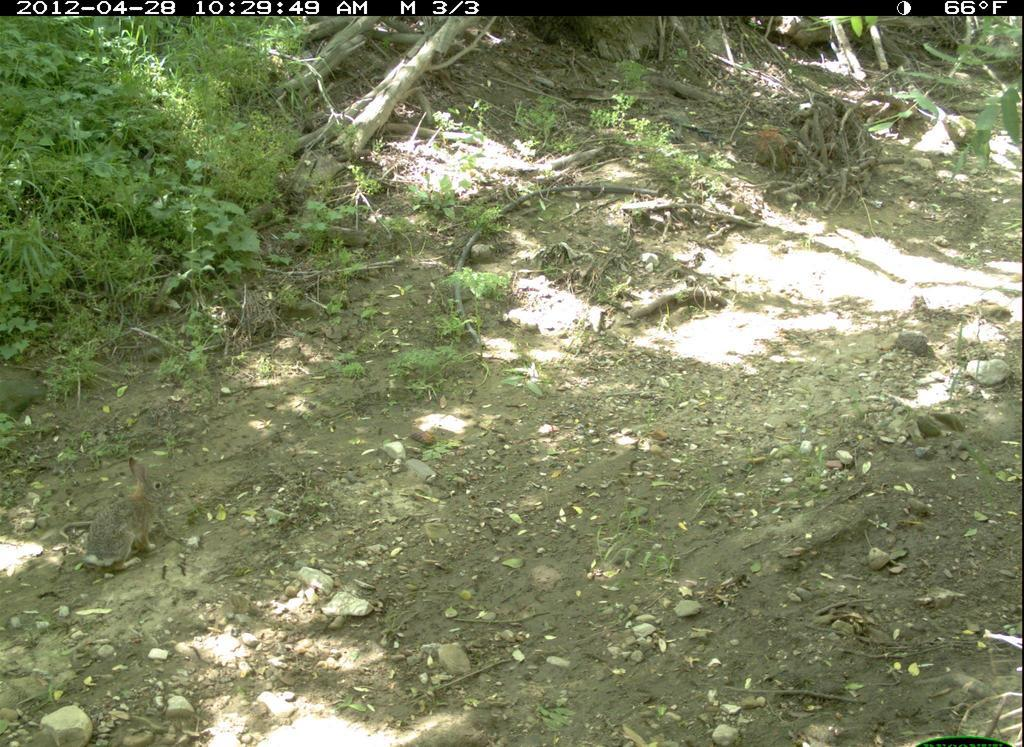rabbit: (72, 450, 186, 575)
